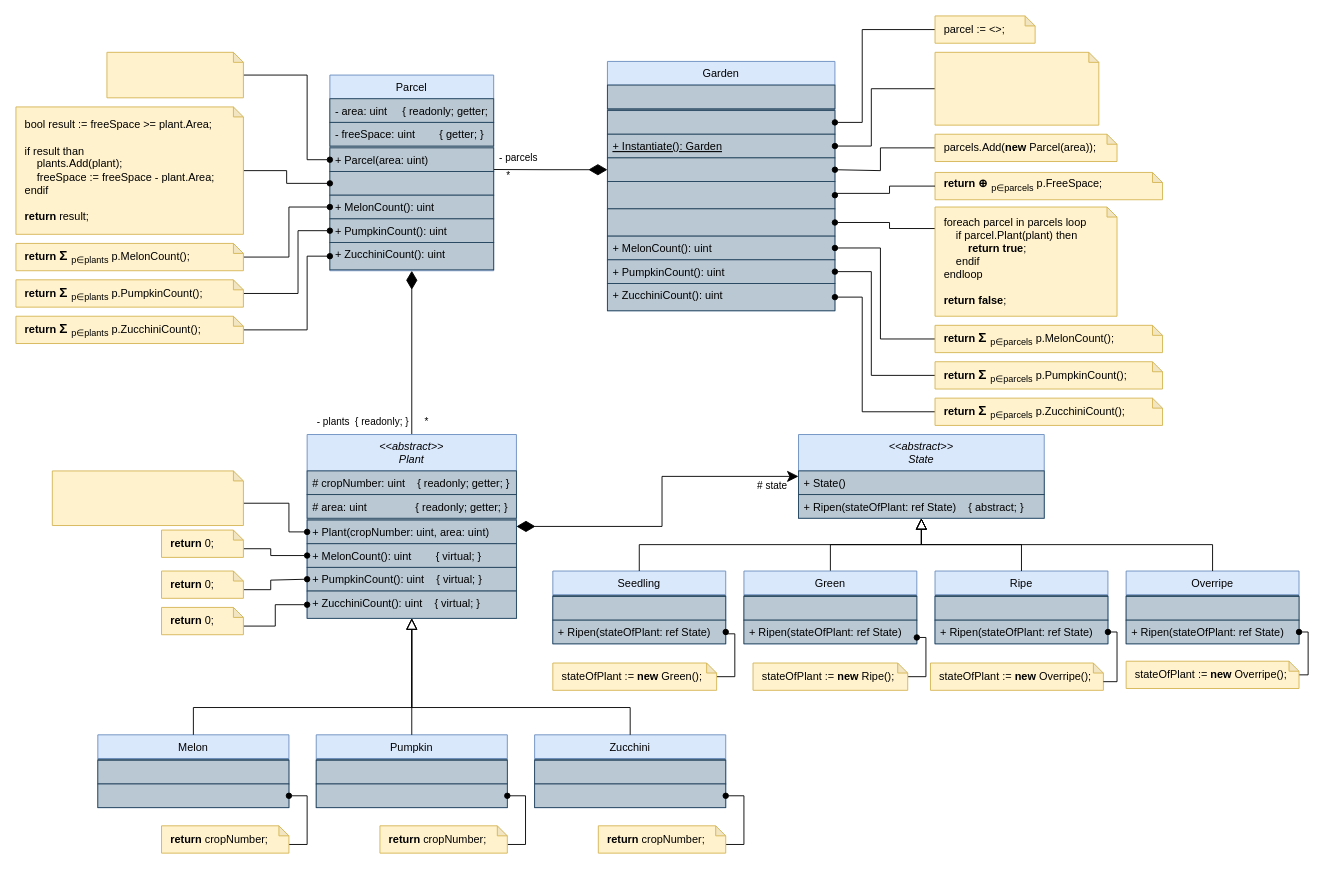
The diagram is 1331 pixels wide and 869 high, and some of its shapes have lost their labels. The shapes that lost their labels are listed below. From the top down, each one's box as (x1, y1, x2, y2) in pixels, then its label:
(106, 51, 243, 98): this .area := area; freeSpace := this .area; plants := <>;
(934, 51, 1099, 125): if instance != NULL then instance := new Garden(); endif return instance;
(607, 84, 835, 109): - instance: Garden?
(607, 110, 835, 134): - Garden()
(329, 171, 494, 195): + Plant(plant: Plant): bool
(607, 157, 835, 182): + CreateParcel(area: uint)
(607, 181, 835, 209): + FreeSpaces(): uint[ ]
(607, 208, 835, 236): + ToFirstFreeParcelPlant(plant: Plant): bool
(51, 470, 243, 526): this .cropNumber := cropNumber; this .area := area; state := new Seedling();
(552, 596, 726, 620): + Seedling()
(743, 596, 917, 620): + Green()
(934, 596, 1108, 620): + Ripe()
(1125, 596, 1299, 620): + Overripe()
(97, 759, 289, 784): + Melon(cropNumber: uint)
(315, 759, 507, 784): + Pumpkin(cropNumber: uint)
(534, 759, 726, 784): + Zucchini(cropNumber: uint)
(97, 783, 289, 808): + MelonCount(): uint { override; }
(315, 783, 507, 808): + PumpkinCount(): uint { override; }
(534, 783, 726, 808): + ZucchiniCount(): uint { override; }
